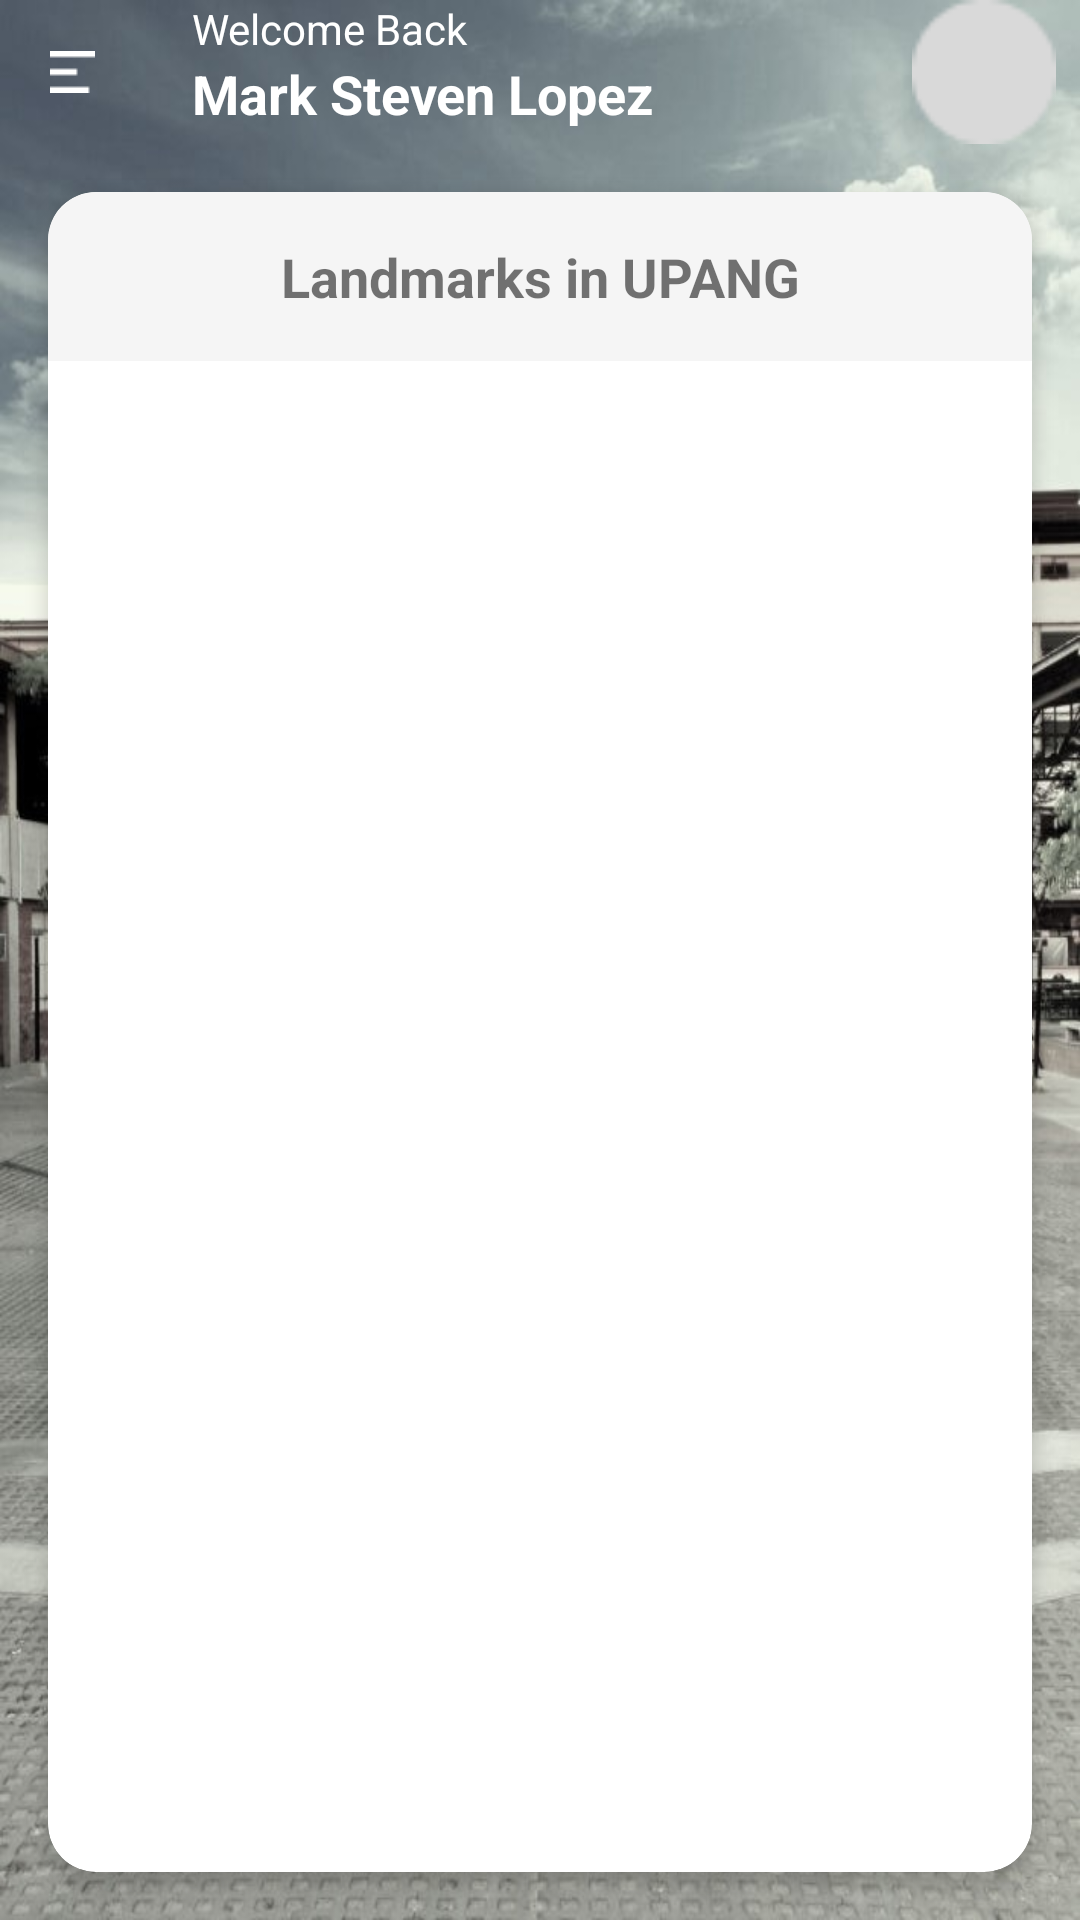

Screen size 1080px×1920px. Icon name, then its box in pixels as rect(x1, y1, x2, y2):
menu: rect(50, 51, 95, 93)
